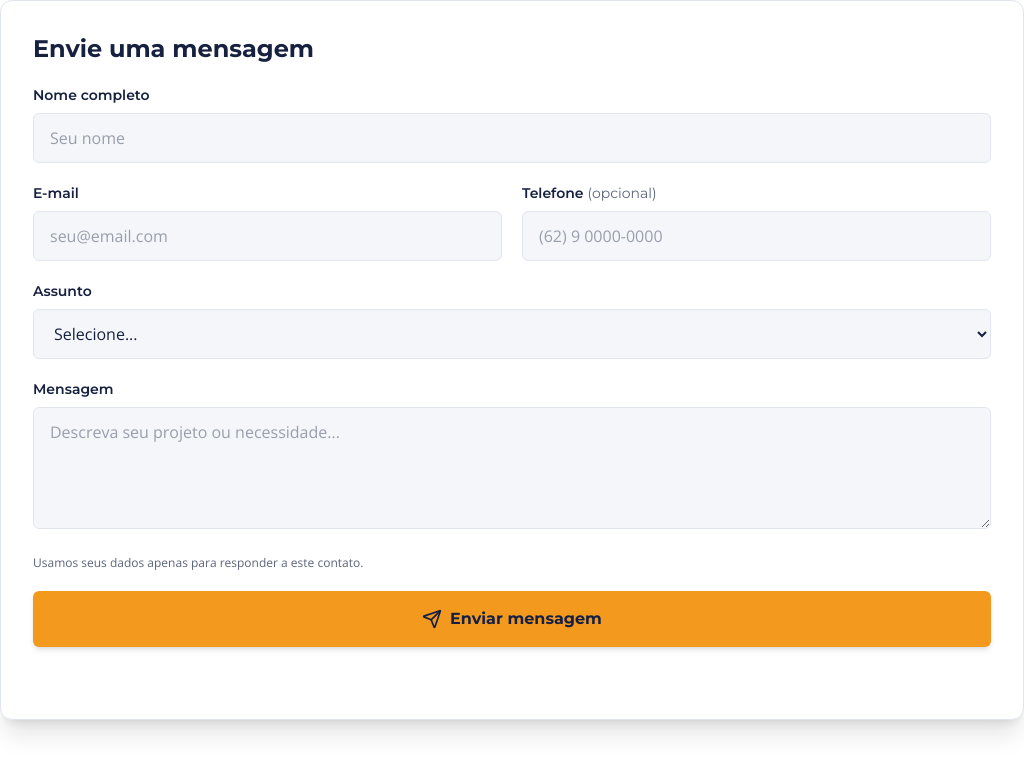
Test: ContactForm › mostra a mensagem de erro devolvida pelo servidor
Type "Maria Silva" into the field labelled "Nome completo" at (512, 138), box [33, 113, 991, 163]
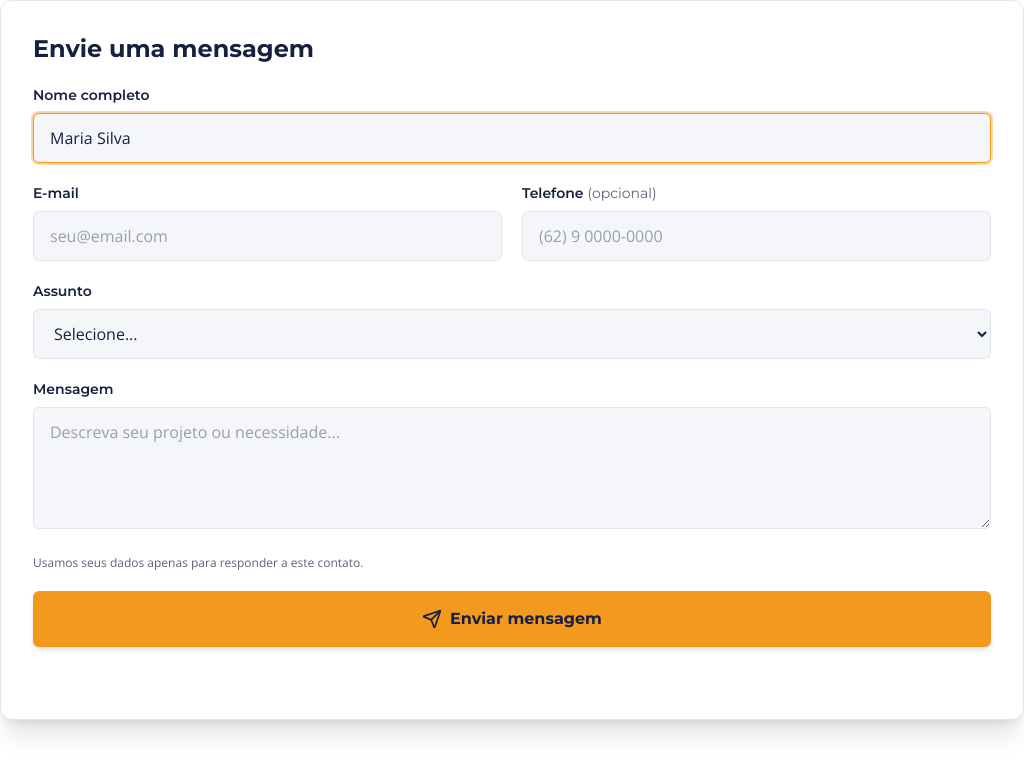
Type "maria@exemplo.com" into the field labelled "E-mail" at (268, 236), box [33, 211, 502, 261]
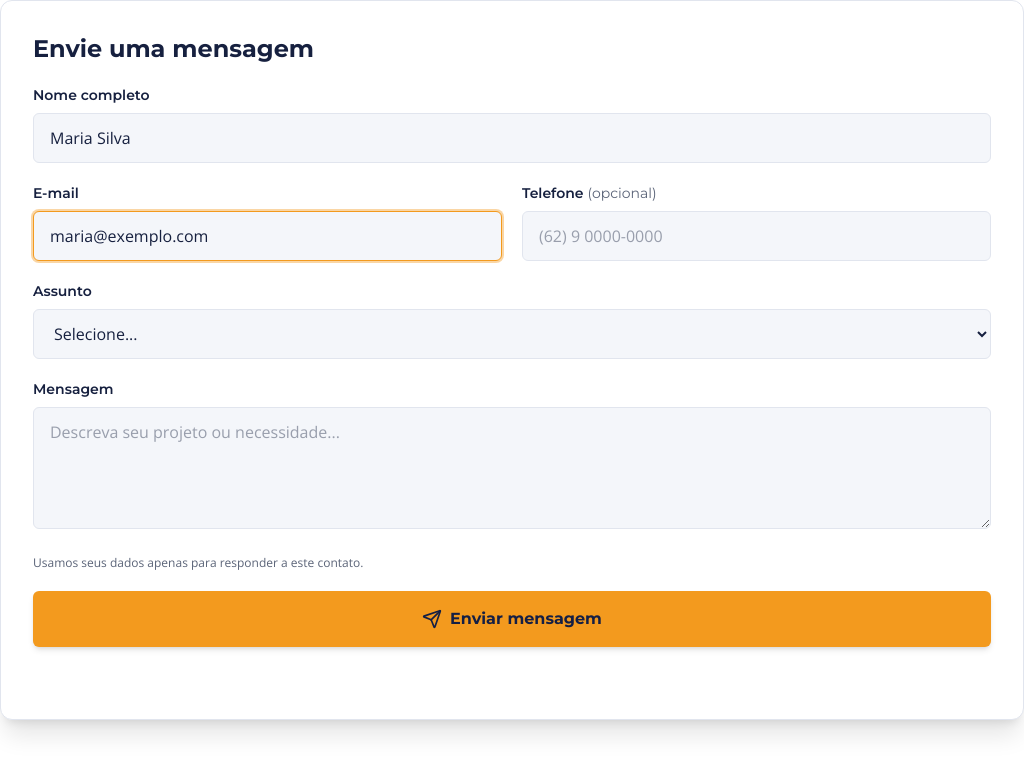
Select "Orçamento" in the dropdown labelled "Assunto" at (512, 334), box [33, 309, 991, 359]
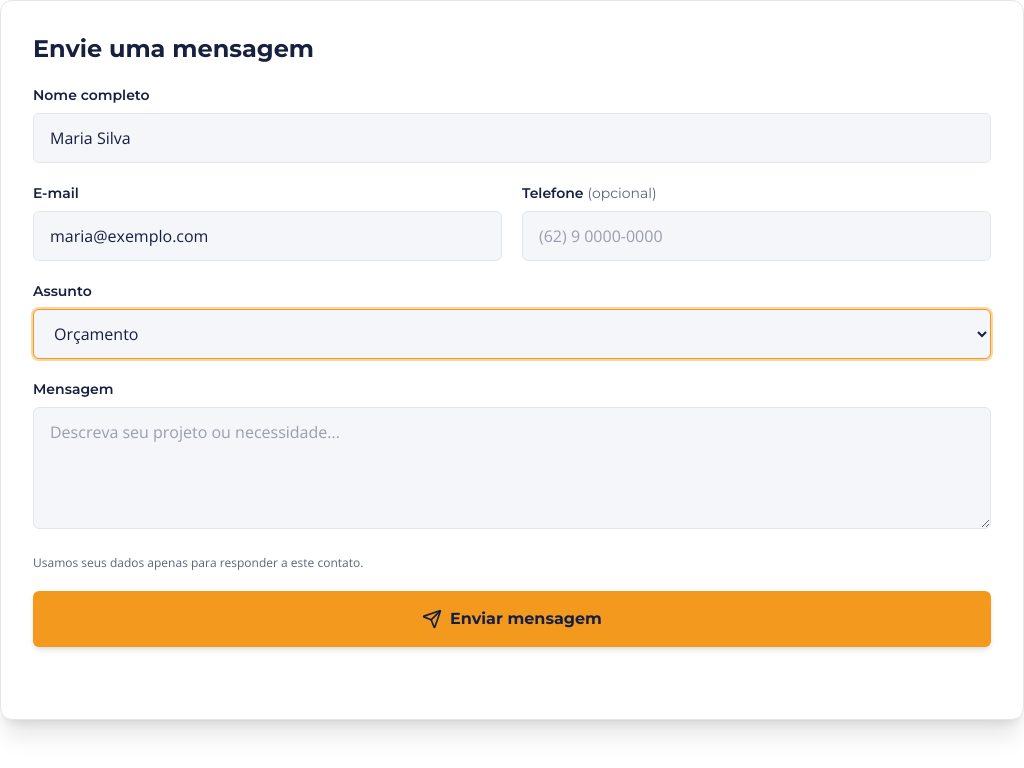
Type "Gostaria de um orçamento." into the text box labelled "Mensagem" at (512, 468), box [33, 407, 991, 529]
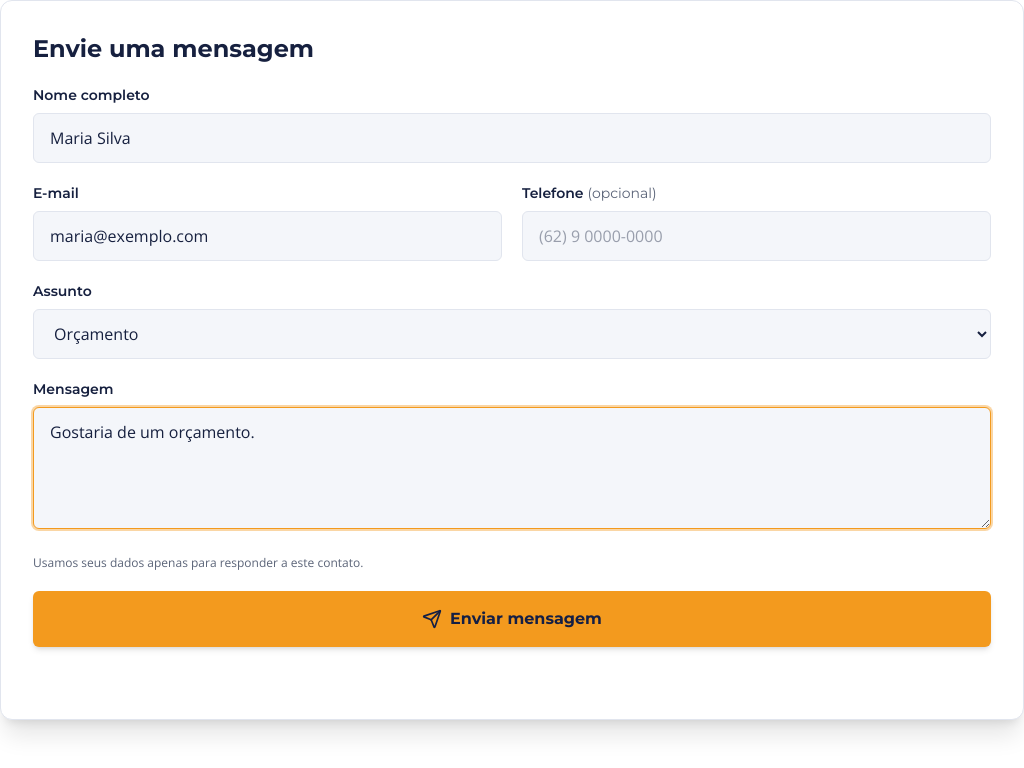
Click the button "Enviar mensagem" at (512, 619), box [33, 591, 991, 647]
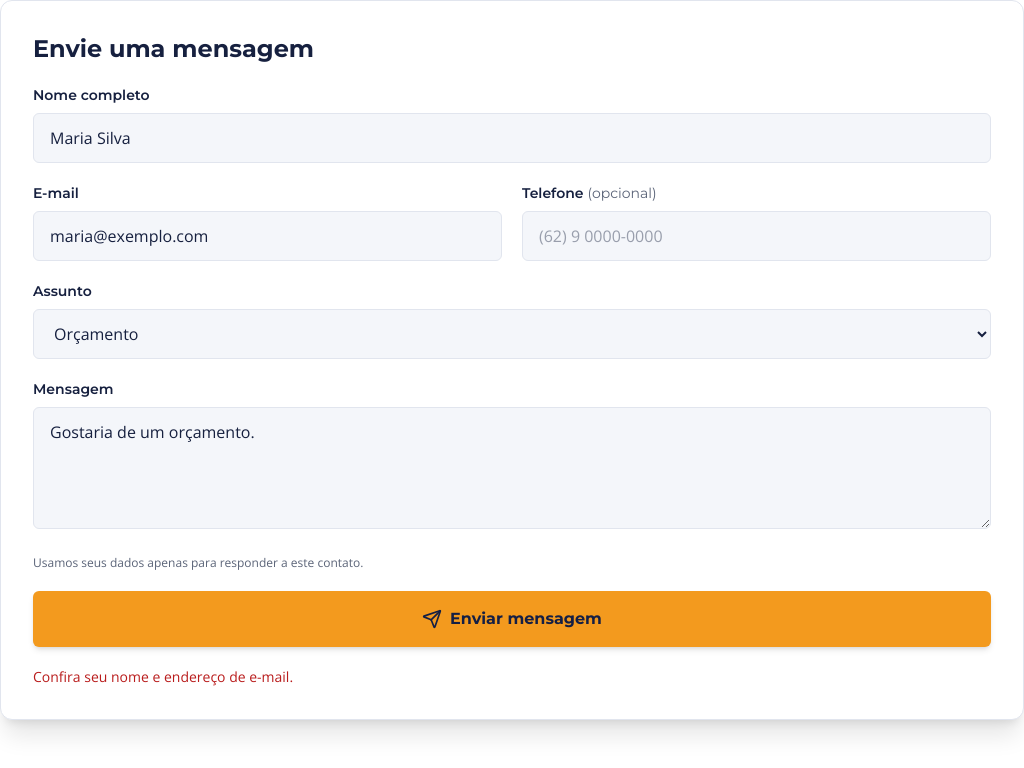
Now the message shows "Confira seu nome", box [33, 667, 293, 686]
